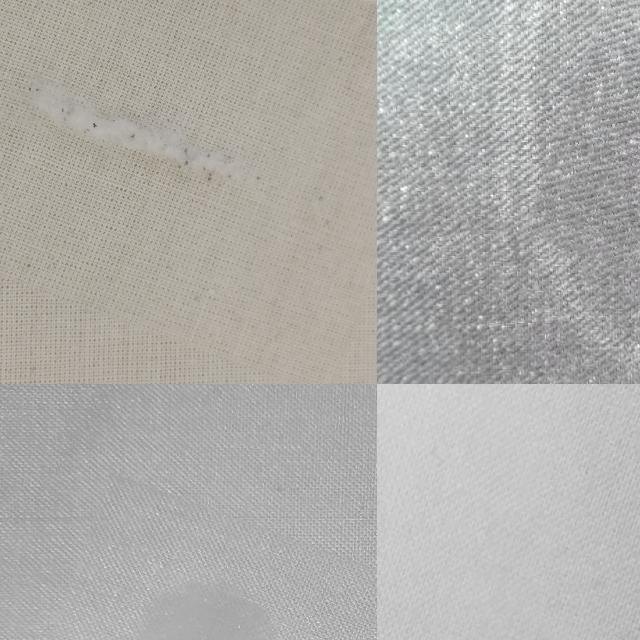Hole: (377, 384, 640, 640), (36, 494, 376, 640)
Thread_other: (542, 0, 640, 289)
